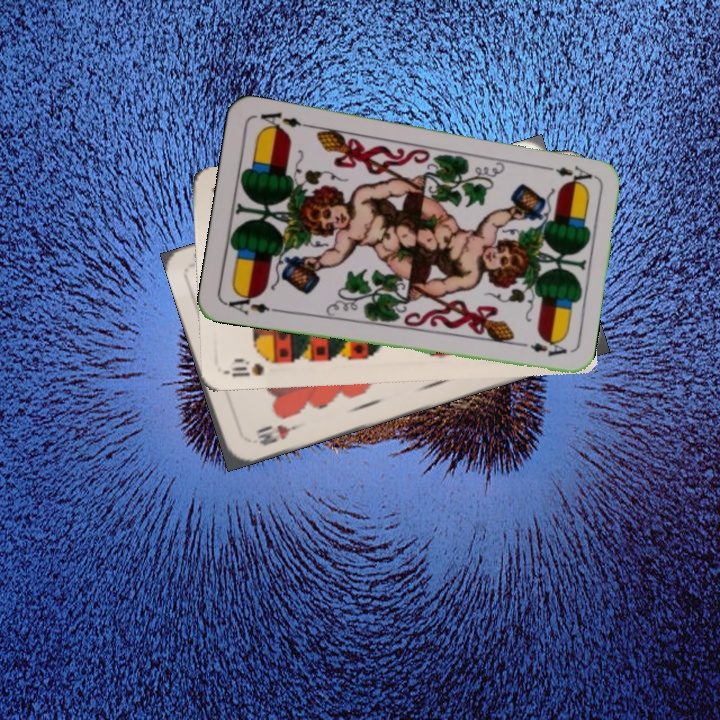EA: (222, 288, 281, 318), (537, 161, 595, 183)
H10: (251, 420, 302, 448)
S10: (224, 356, 267, 380)
